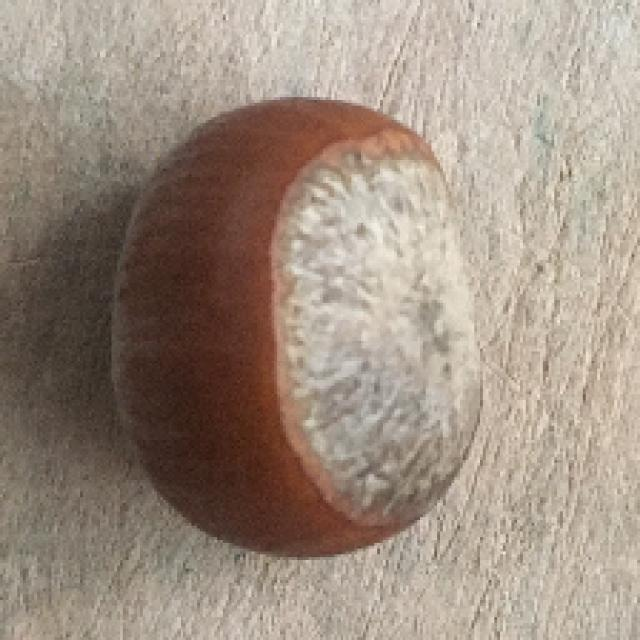QualityHazelnut: (111, 95, 490, 559)
